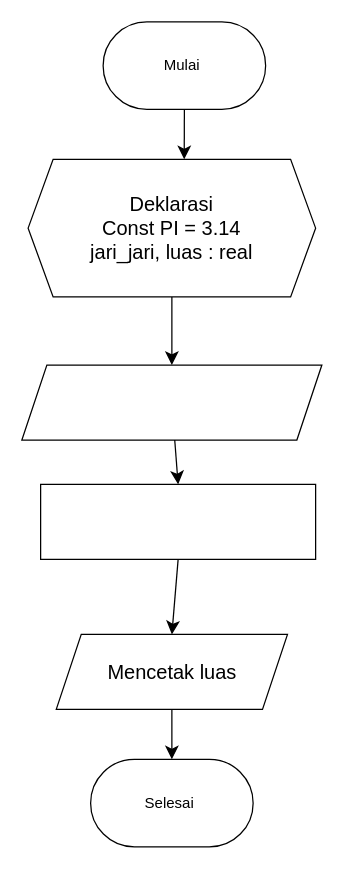
Image size: 344x869. Some labels were removed from this diagram. Here are the shapes that lost their labels. From the top down, the centre of each, then its label:
(x=171, y=402): Membaca jari_jari
(x=177, y=521): Luas = PI * jari_jari * jari_jari
